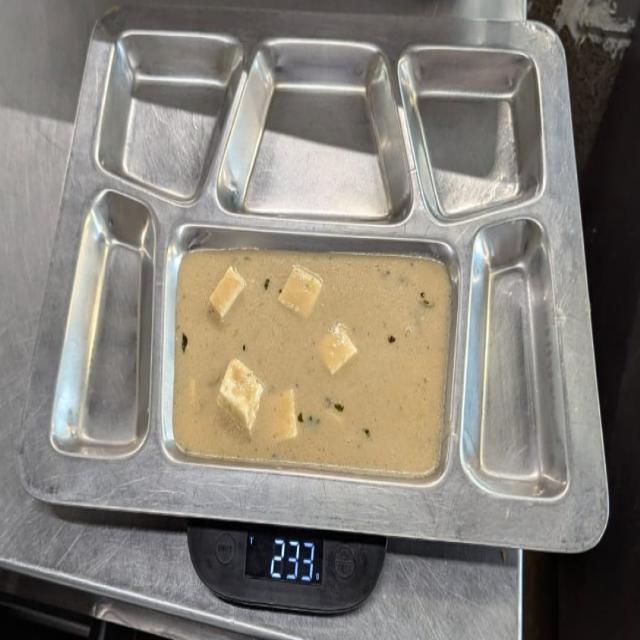Paneer Curry: (170, 235, 454, 478)
